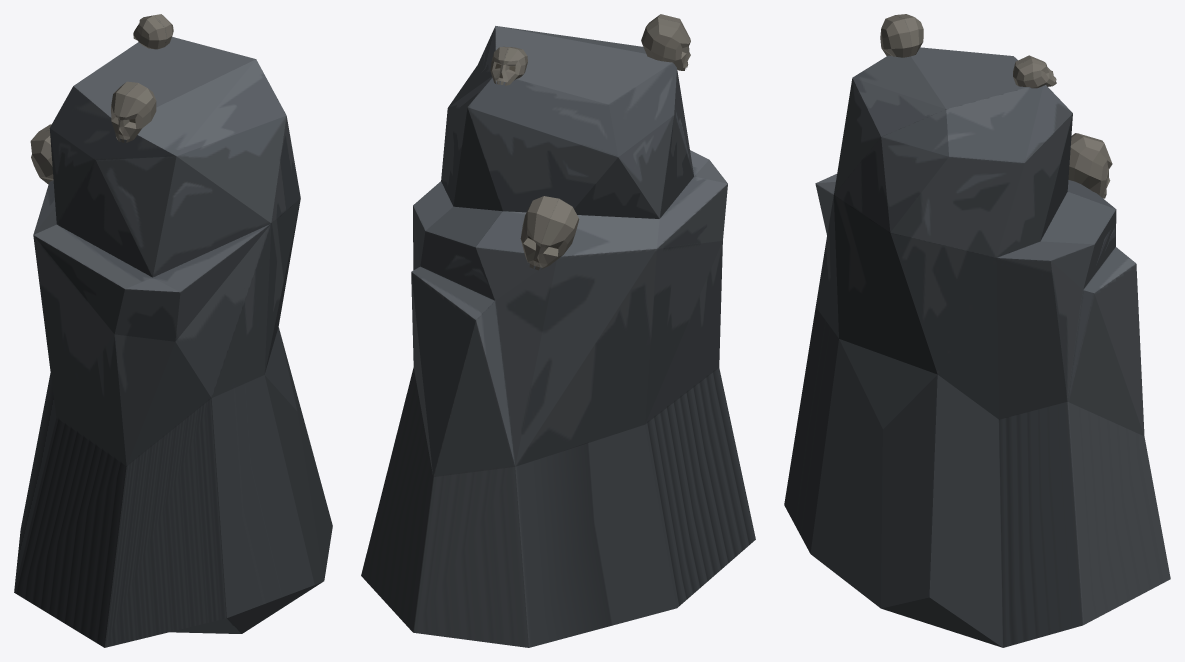
The model's file is rock 1.fbx.
3 views of the same model, side by side, from view 1: azimuth 30°, elevation 25°; view 2: azimuth 150°, elevation 25°; view 3: azimuth 270°, elevation 25° (orthographic). The views are drawn at different scales.
Visible parts, largest first — view 1: rock 1; view 2: rock 1; view 3: rock 1.
Boxes of the visible parts, x1=… form: rock 1: x1=14, y1=14, x2=332, y2=647; rock 1: x1=361, y1=14, x2=755, y2=647; rock 1: x1=784, y1=14, x2=1170, y2=647.
Bounding box in the file's own units: 934 × 1791 × 1171.
1 material, 1 textured.
